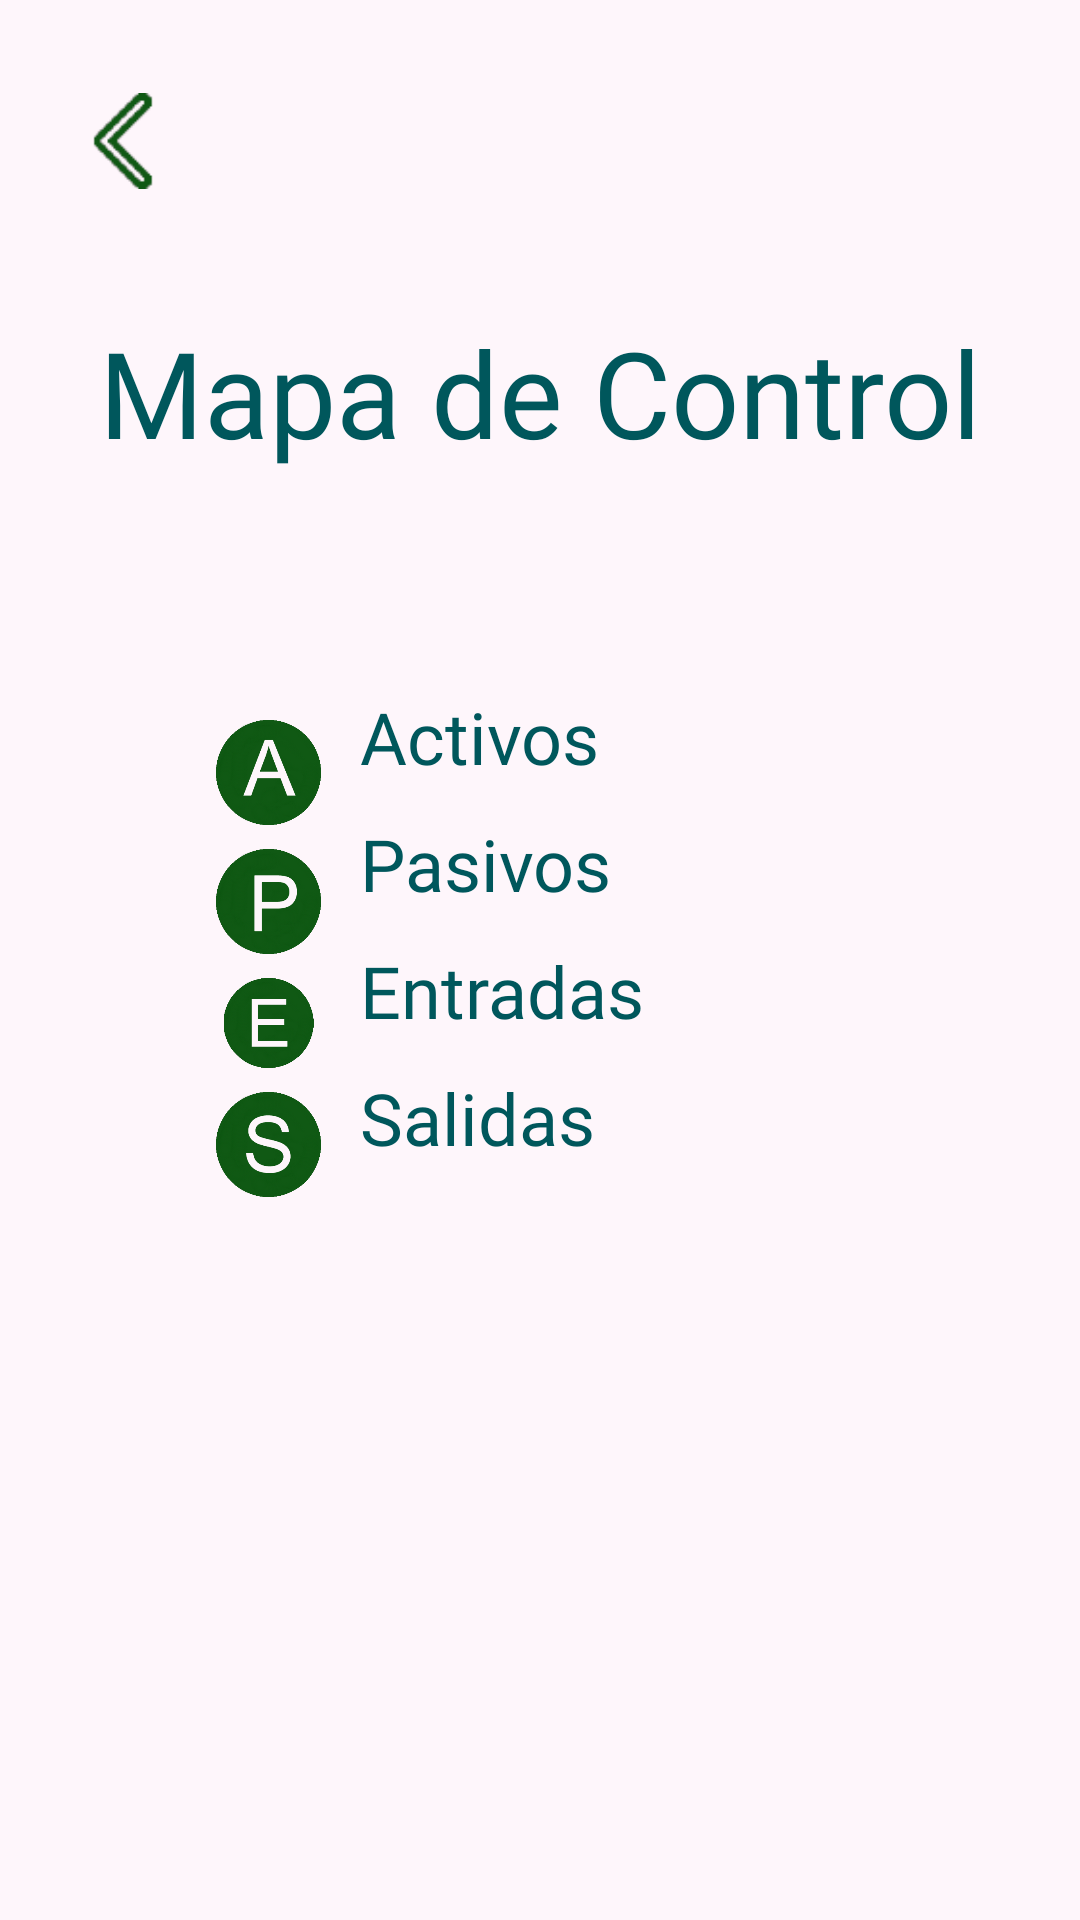

Screen size 1080*1920. Icon name, then its box in pixels as bbox=(x1, y1, x2, y2):
volver: bbox=(93, 93, 153, 189)
